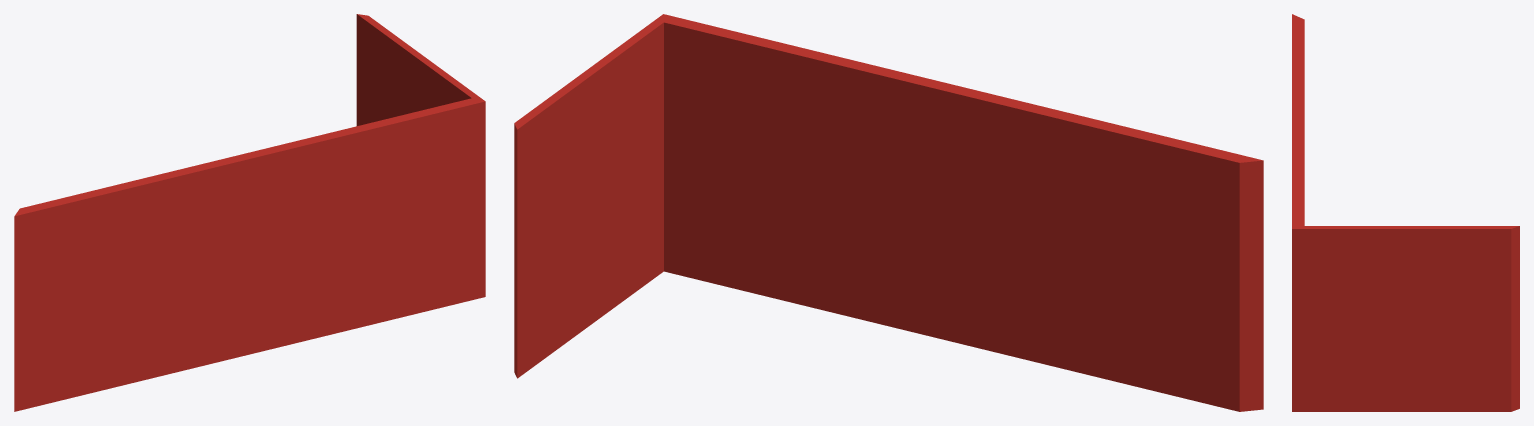
Rendered from Room Starting Walls.gltf.
3 renders of one model, left to right at view 1: azimuth 30°, elevation 25°; view 2: azimuth 150°, elevation 25°; view 3: azimuth 270°, elevation 25°, orthographic. The views are drawn at different scales.
Visible parts, largest first — view 1: Starting Room Walls; view 2: Starting Room Walls; view 3: Starting Room Walls.
Boxes of the visible parts, box(x1,y1,x2,y2) form: Starting Room Walls: box(14, 14, 485, 411); Starting Room Walls: box(514, 14, 1263, 411); Starting Room Walls: box(1292, 14, 1519, 411).
Bounding box in the file's own units: 0.7791 × 0.3089 × 0.3487.
Materials: 1 (1 with a texture image).
